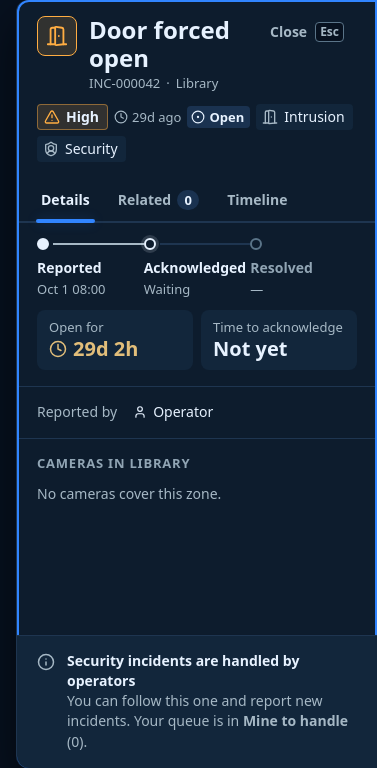
Test: IncidentDetail › technician scope › ends an out-of-scope incident in a note, not in the response form
This screenshot has width=377, height=768.
Expected: the element that starts with "Security incidents" shows "Security incidents are handled by operators", [17,634,376,767]
Expected: the element that starts with "Security incidents" shows "You can follow this one and report new incidents.", [67,691,322,730]
Click the tab "Timeline". click: [257, 200]
box: [215,178,300,222]
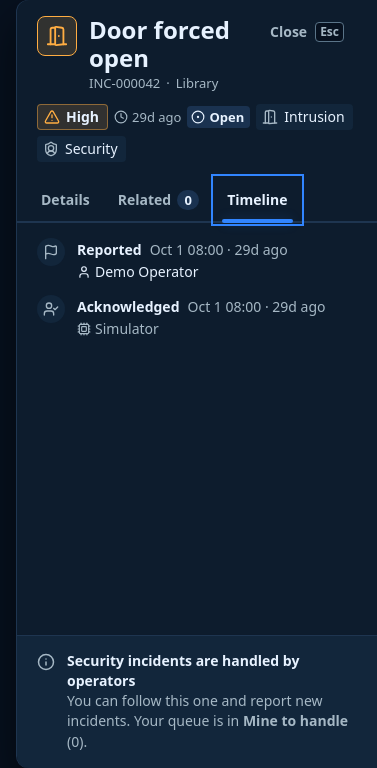
Expected: the text "Demo Operator" is shown, [77,262,198,283]
